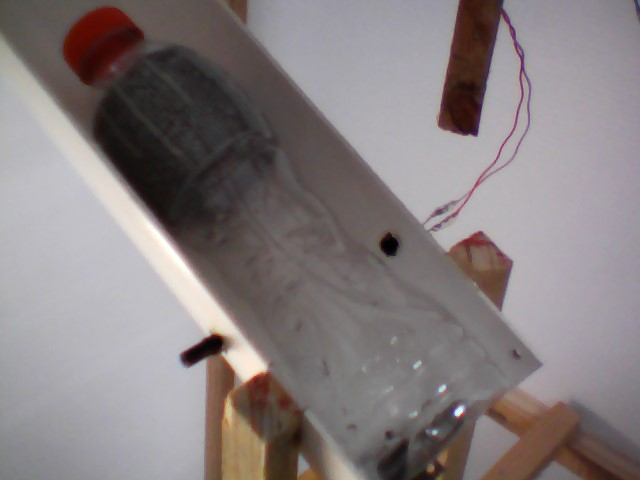plastico: (57, 2, 513, 480)
